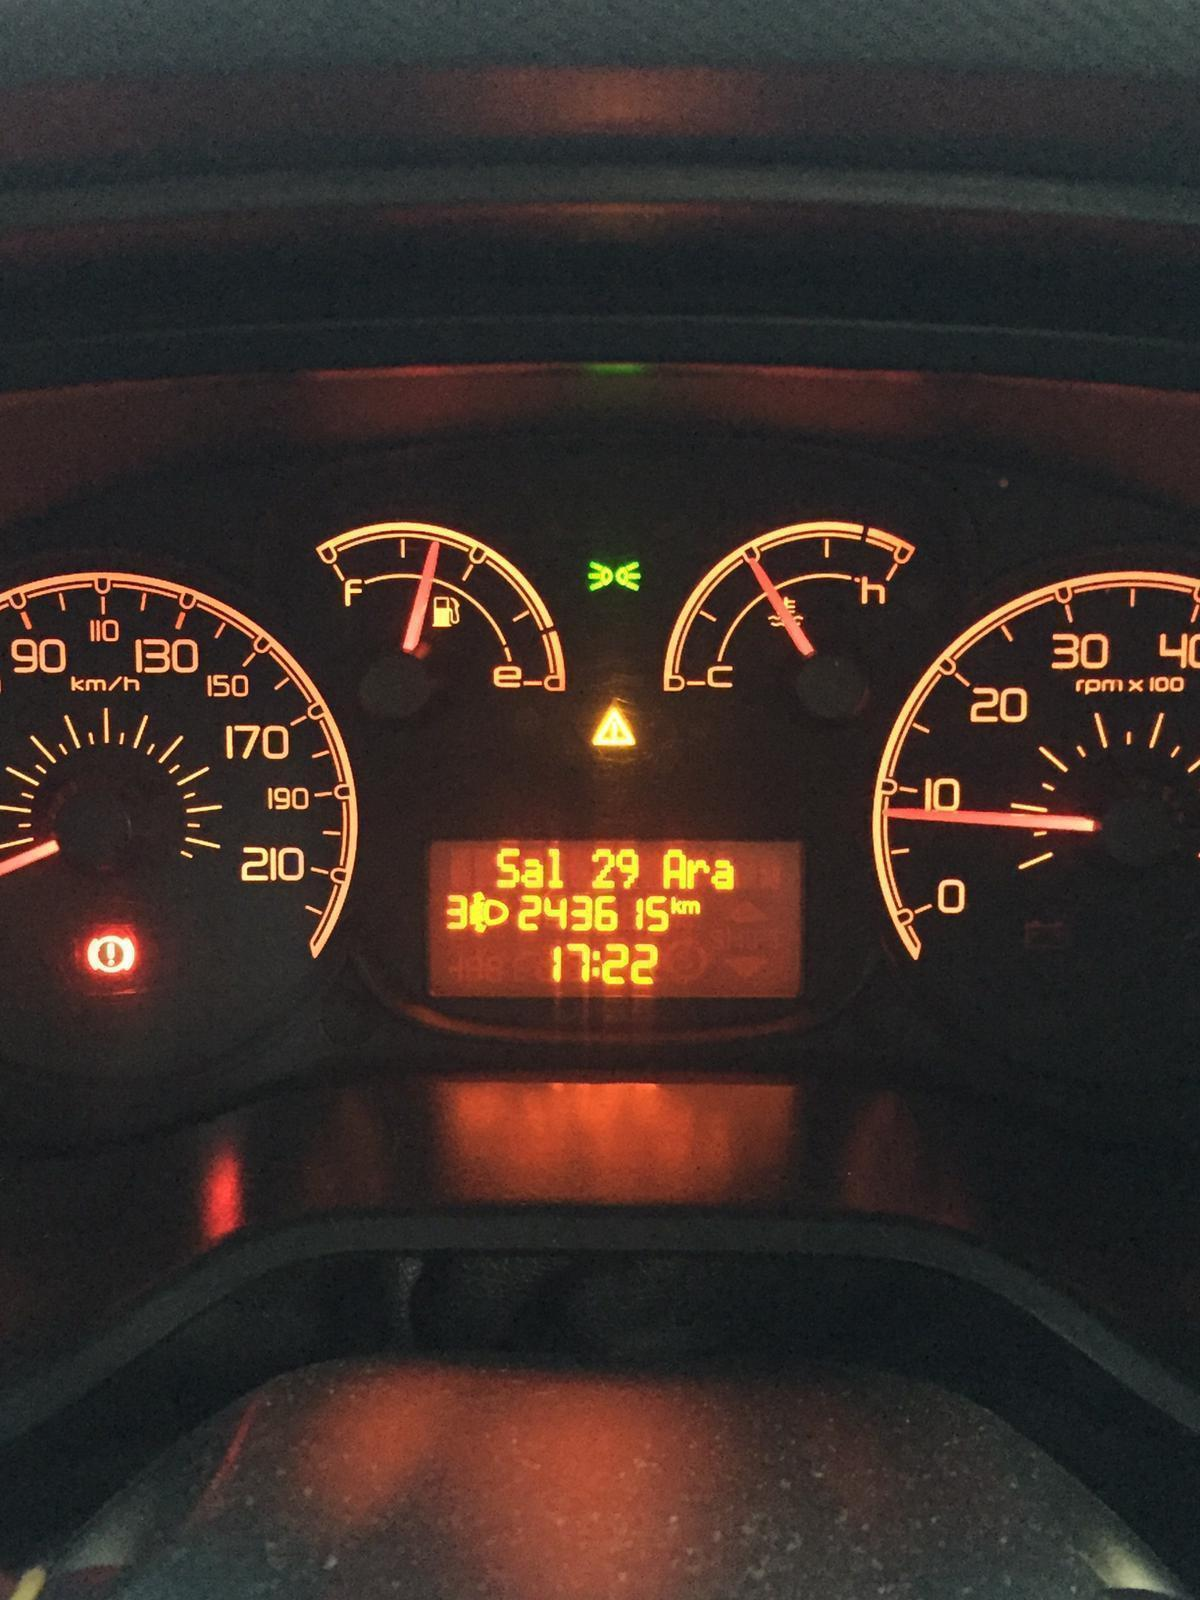1: (550, 940, 563, 983), (632, 894, 645, 932)
2: (630, 942, 658, 986), (603, 944, 629, 986), (591, 847, 615, 889), (518, 893, 541, 934)
3: (445, 891, 468, 930), (571, 894, 592, 932)
4: (543, 894, 568, 934)
5: (645, 893, 671, 935)
6: (595, 894, 619, 932)
7: (566, 942, 591, 983)
9: (615, 847, 642, 889)
X: (495, 844, 519, 889), (661, 847, 684, 889), (712, 858, 736, 891), (547, 847, 565, 889), (523, 857, 545, 889), (687, 857, 708, 889), (682, 897, 700, 916), (591, 947, 603, 976), (669, 894, 684, 915)
odometer: (422, 831, 809, 1007)
